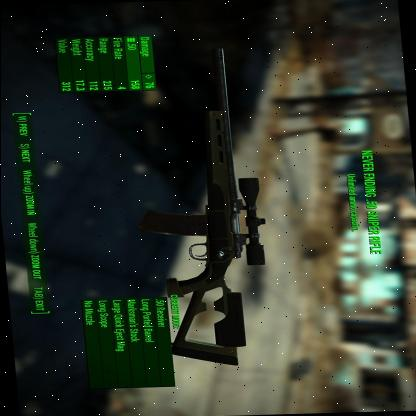rifle: (142, 42, 268, 368)
